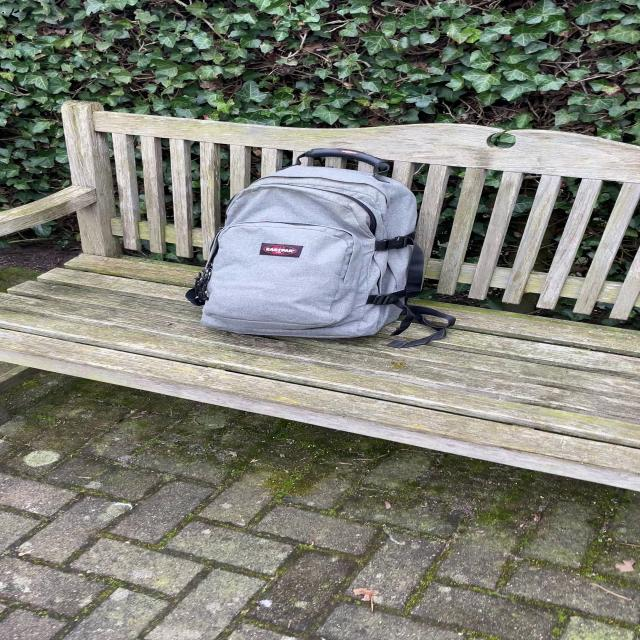backpack: (180, 144, 432, 344)
